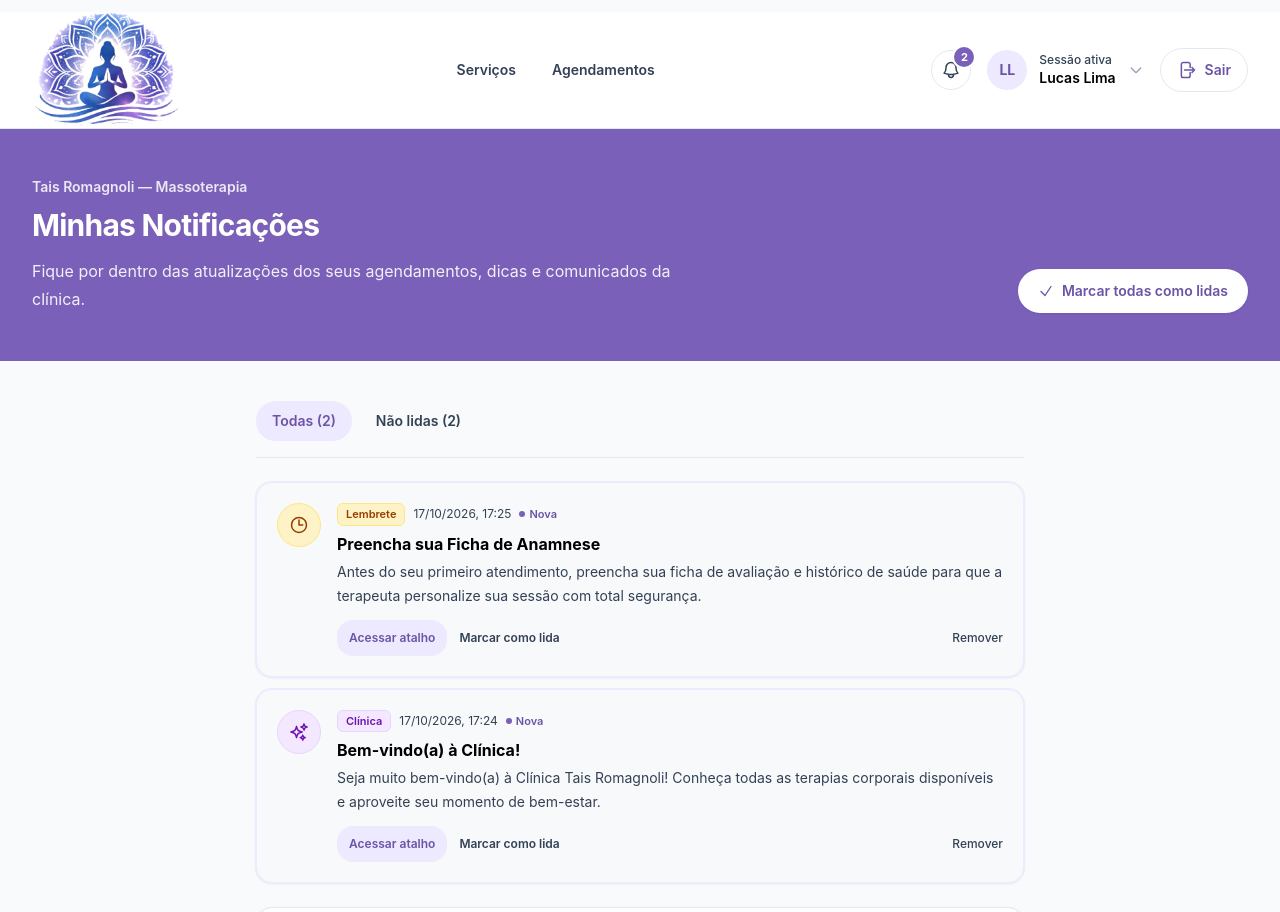
Test: NotificationsPage › marca todas as notificacoes como lidas ao clicar no botao correspondente
Click the button "Marcar todas como lidas" at (1133, 291), box [1018, 269, 1248, 313]
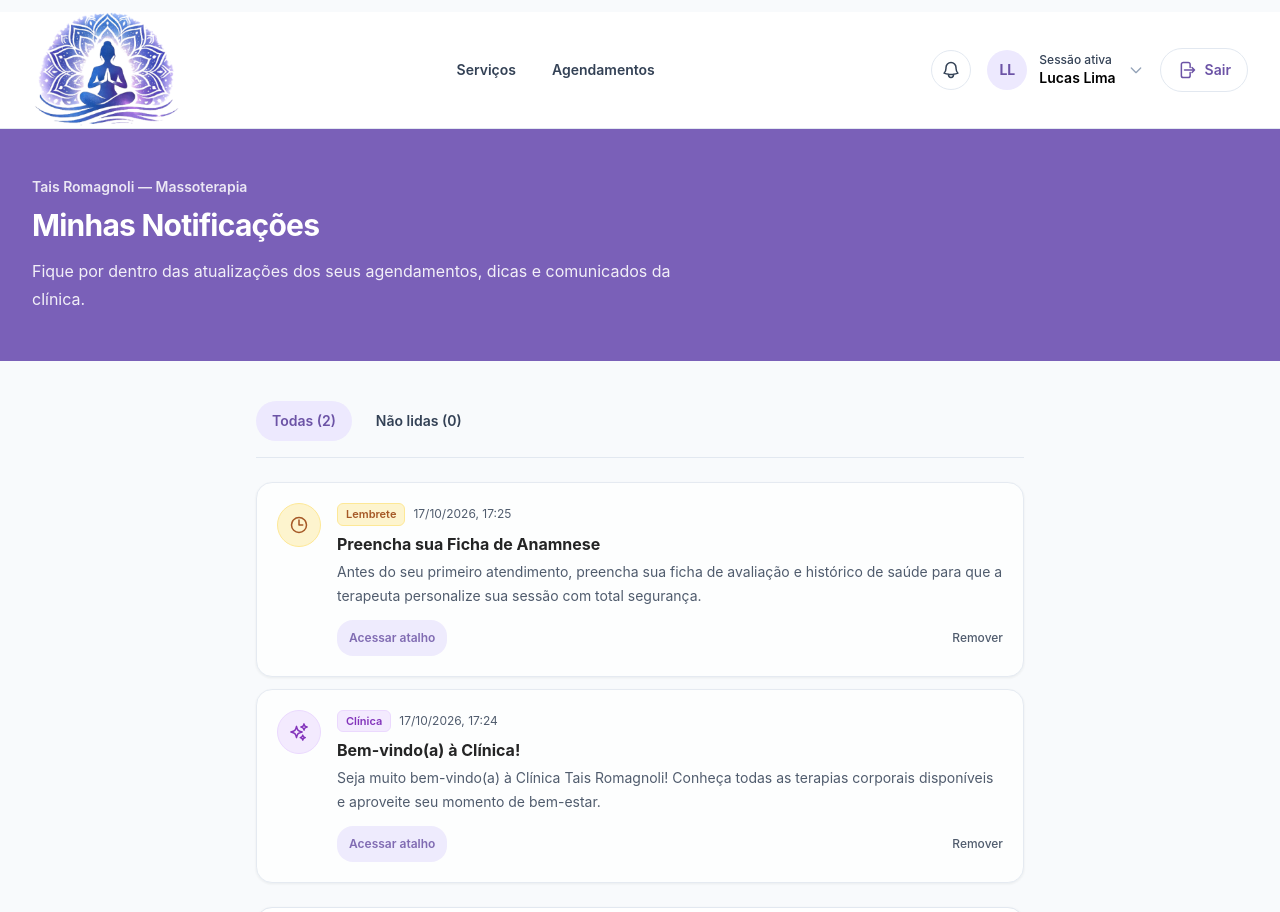
expect the button "Não lidas (0)" is shown: met, box [360, 401, 478, 441]
